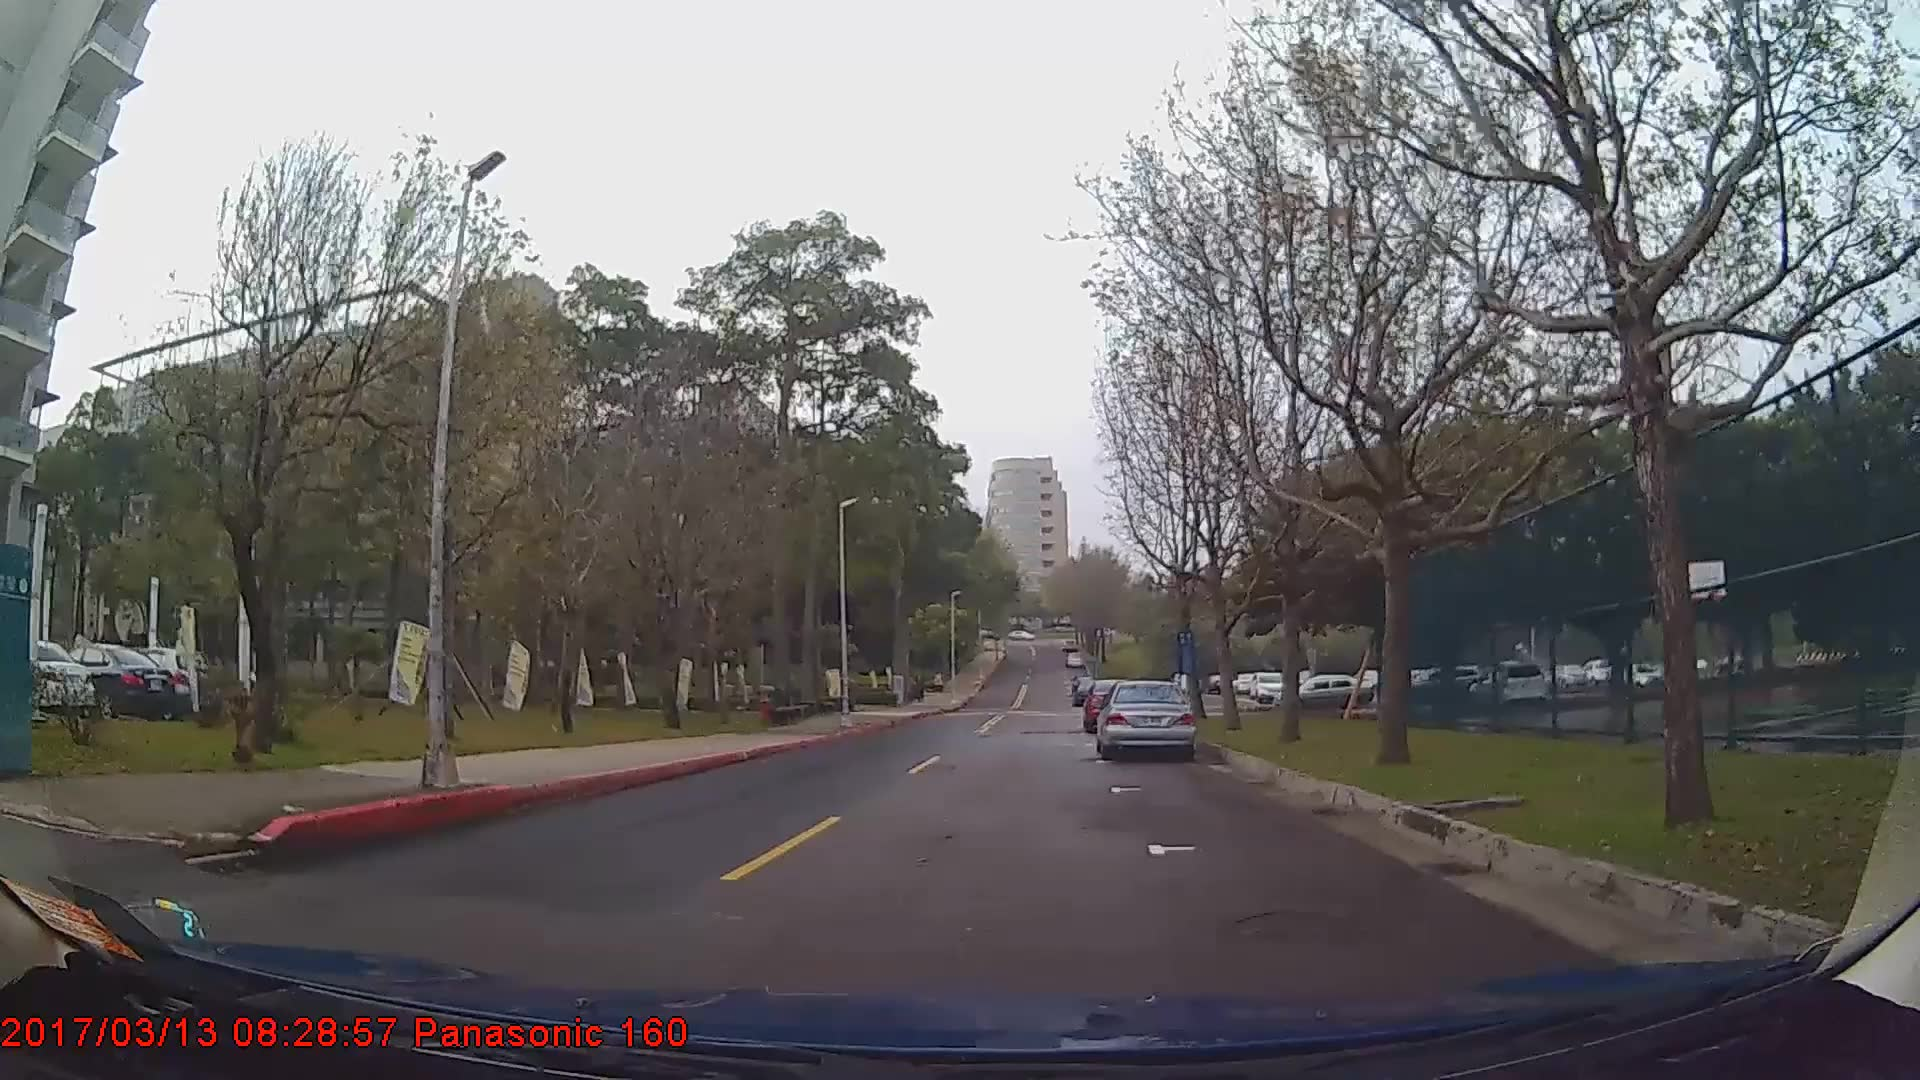vehicle: (58, 641, 173, 721), (1097, 680, 1197, 760), (112, 645, 208, 713), (1273, 671, 1371, 711)
